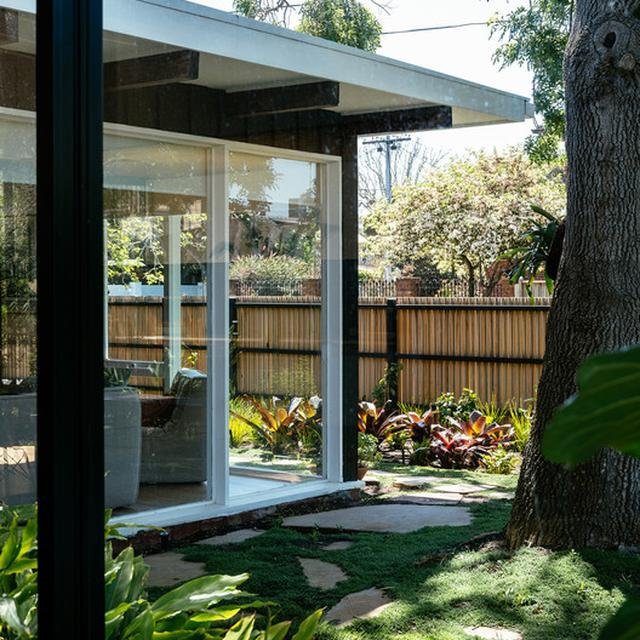building: (0, 0, 530, 527)
